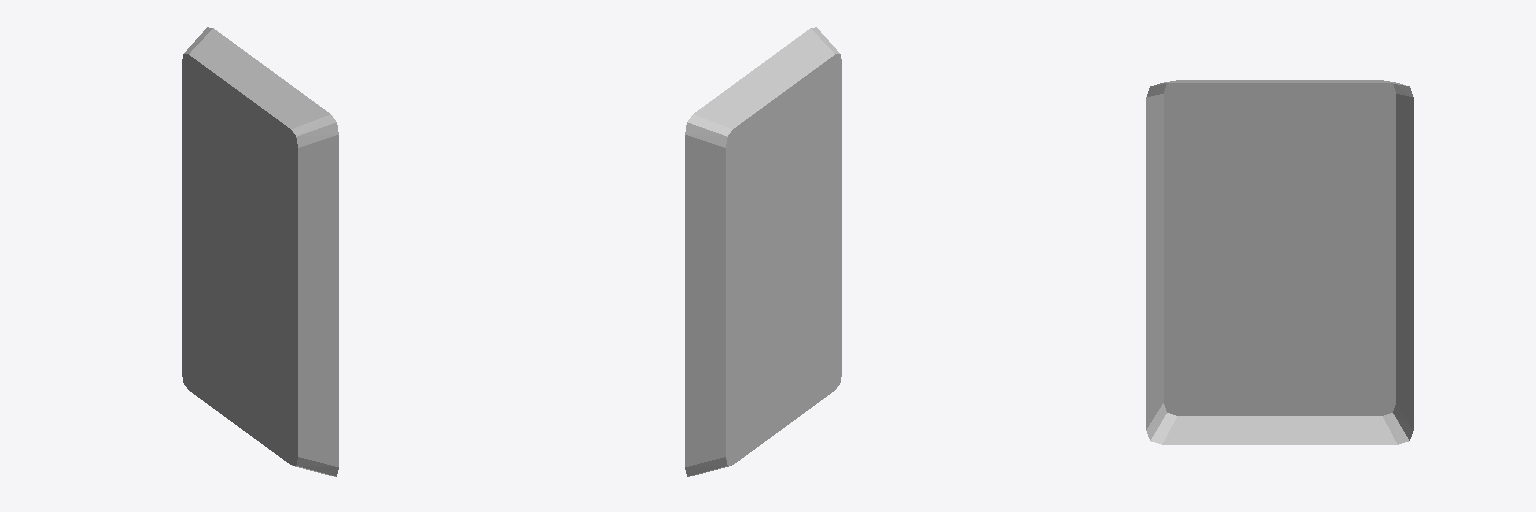
The model's file is Intercom.obj.
The picture shows the model from 3 angles: view 1: azimuth 30°, elevation 25°; view 2: azimuth 150°, elevation 25°; view 3: azimuth 270°, elevation 25°; orthographic projection.
Parts seen in each view (by area): view 1: Intercom_01; view 2: Intercom_01; view 3: Intercom_01.
Boxes of the visible parts, <box> form: Intercom_01: <box>182,27,338,476</box>; Intercom_01: <box>685,27,841,476</box>; Intercom_01: <box>1146,80,1413,444</box>.
Bounding box in the file's own units: 0.6942 × 7.46 × 5.